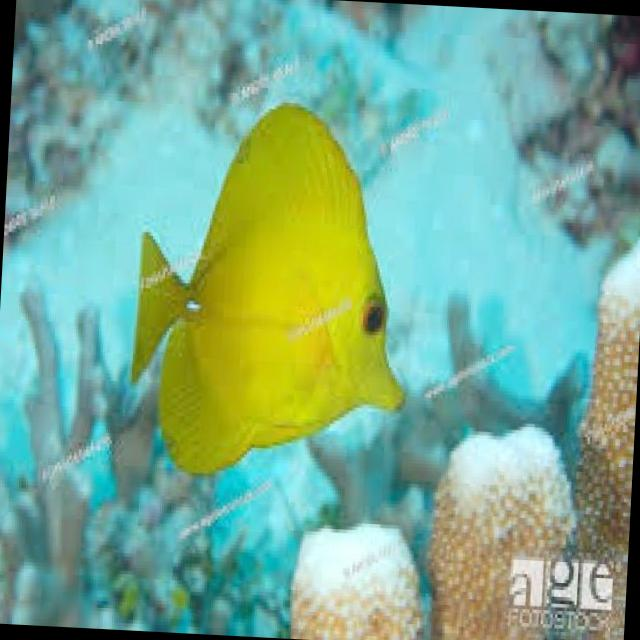TangFish: (122, 90, 420, 488)
